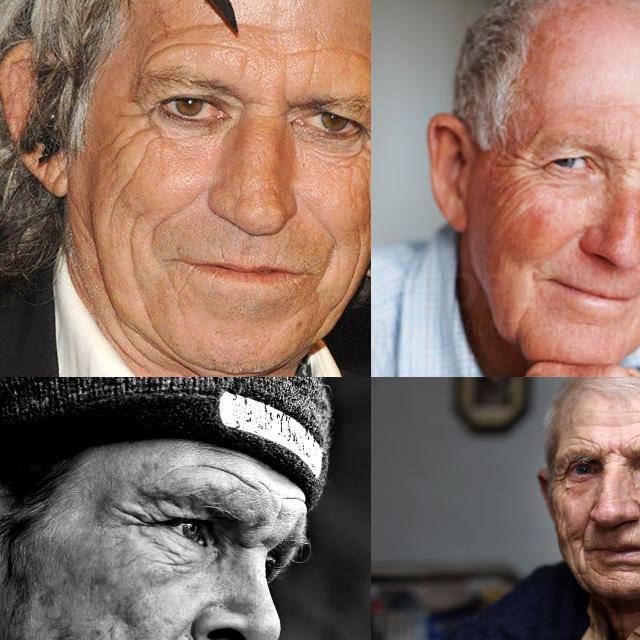chin: (611, 564, 635, 578), (589, 564, 609, 580)
crows_feet: (117, 96, 161, 150), (496, 140, 538, 180), (123, 504, 153, 536), (360, 122, 371, 168), (554, 466, 568, 492)
forehead: (150, 24, 222, 56), (194, 458, 252, 490), (326, 36, 371, 67), (304, 33, 326, 81), (565, 432, 597, 446)
frown_line: (602, 444, 626, 462), (635, 145, 640, 175)
gummy_smile: (149, 198, 199, 238), (317, 220, 339, 276), (574, 514, 592, 544)
masseter: (83, 212, 111, 294), (338, 242, 364, 310), (138, 300, 174, 348), (109, 164, 143, 212), (120, 222, 148, 274), (562, 530, 580, 570), (359, 180, 371, 229)
sad_smile: (580, 548, 592, 578)
